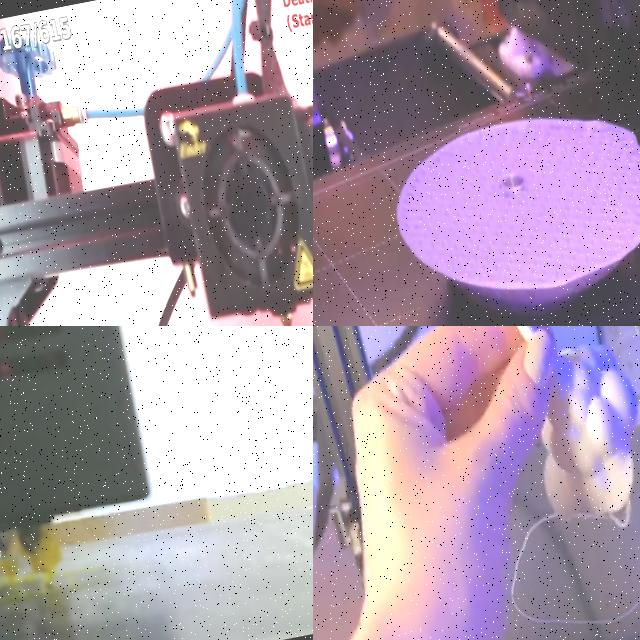spaghetti: (0, 524, 62, 591)
